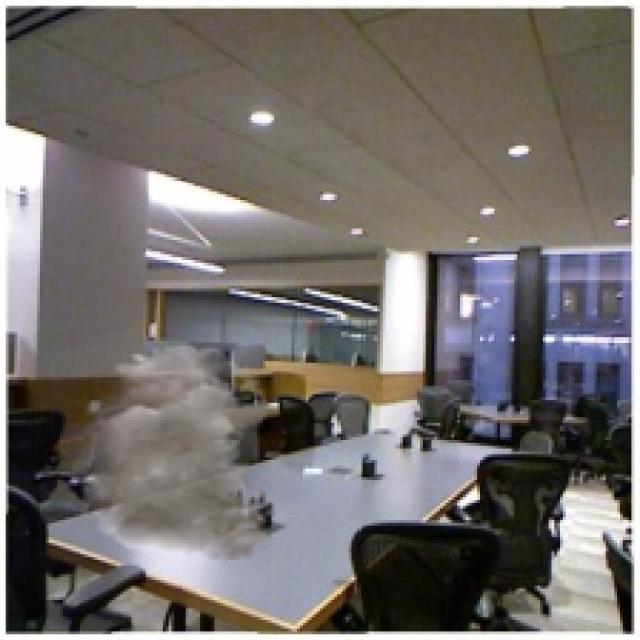smoke: (54, 343, 277, 563)
